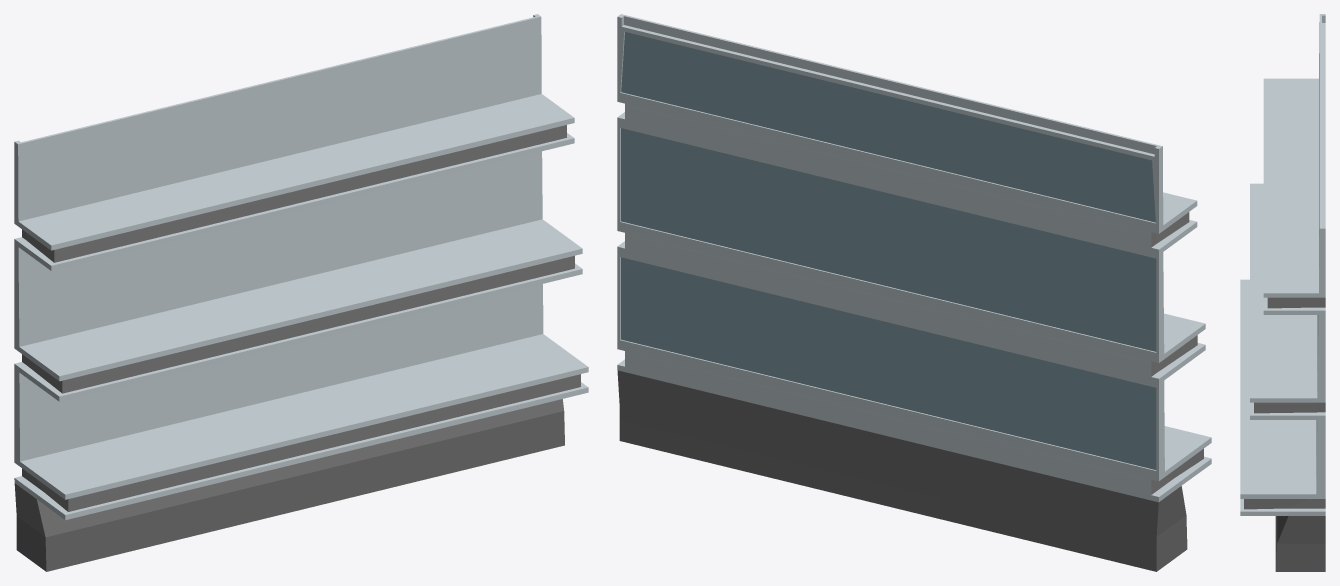
File: One Sided Shelving Med #1.fbx
3 renders of one model, left to right at view 1: azimuth 30°, elevation 25°; view 2: azimuth 150°, elevation 25°; view 3: azimuth 270°, elevation 25°, orthographic. The views are drawn at different scales.
Visible parts, largest first — view 1: One Sided Shelving Med #1; view 2: One Sided Shelving Med #1; view 3: One Sided Shelving Med #1.
Boxes of the visible parts, bbox=[...] form: One Sided Shelving Med #1: bbox=[14, 14, 588, 571]; One Sided Shelving Med #1: bbox=[617, 14, 1211, 571]; One Sided Shelving Med #1: bbox=[1240, 14, 1325, 571].
Bounding box in the file's own units: 223 × 166 × 37.5.
1 material, 1 textured.
